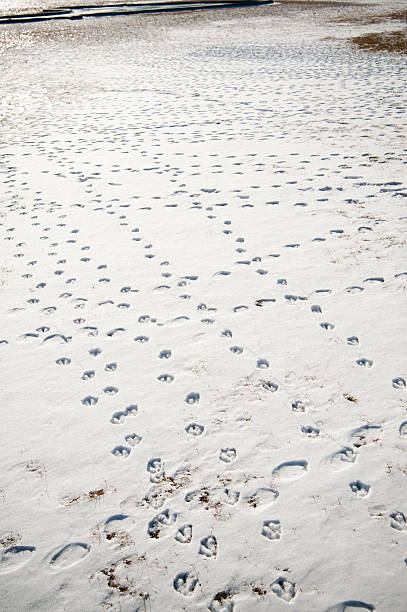animal_foot_print: (49, 542, 90, 569), (0, 546, 35, 574), (103, 514, 133, 544), (147, 508, 176, 538), (173, 570, 199, 597), (243, 488, 278, 508), (272, 460, 307, 480), (350, 425, 381, 447), (270, 577, 296, 601), (208, 590, 235, 612), (324, 600, 375, 611), (329, 447, 356, 467), (110, 405, 138, 424), (147, 458, 164, 482), (199, 535, 216, 557), (261, 520, 280, 539), (175, 524, 192, 544), (349, 480, 370, 496), (390, 511, 406, 530), (220, 488, 239, 504), (291, 399, 311, 413), (219, 447, 236, 462), (185, 423, 203, 436), (111, 445, 130, 457), (125, 433, 142, 446), (301, 425, 319, 437), (261, 380, 278, 392), (106, 327, 124, 336), (81, 395, 97, 405), (392, 377, 405, 389), (81, 370, 95, 381), (185, 392, 199, 403), (344, 285, 363, 293), (103, 385, 118, 395), (55, 357, 71, 366), (356, 358, 372, 367), (134, 335, 149, 344), (157, 374, 173, 382), (256, 358, 268, 368), (399, 421, 406, 438), (320, 322, 334, 330), (159, 349, 171, 358), (104, 362, 116, 371), (229, 345, 242, 353), (347, 336, 358, 345), (221, 329, 232, 337), (311, 305, 321, 313)
